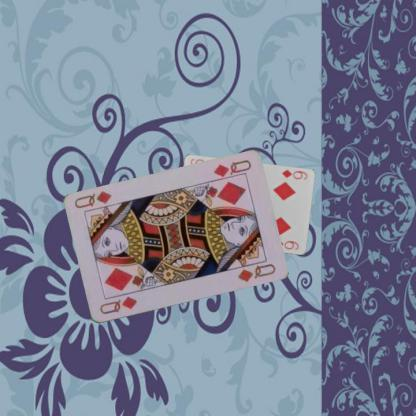6d: (279, 167, 309, 181)
Qd: (210, 158, 252, 184), (97, 294, 138, 316)
